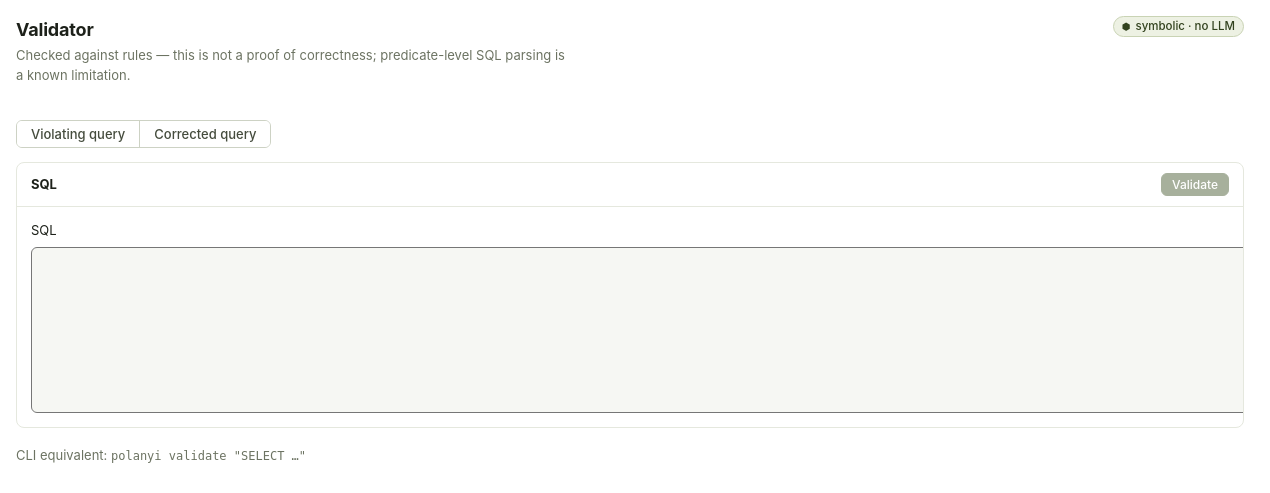
it: retry re-issues the request and can recover to a normal verdict
In the text box labelled "SQL": x=645, y=330 [31,246,1259,412], type "SELECT 1"
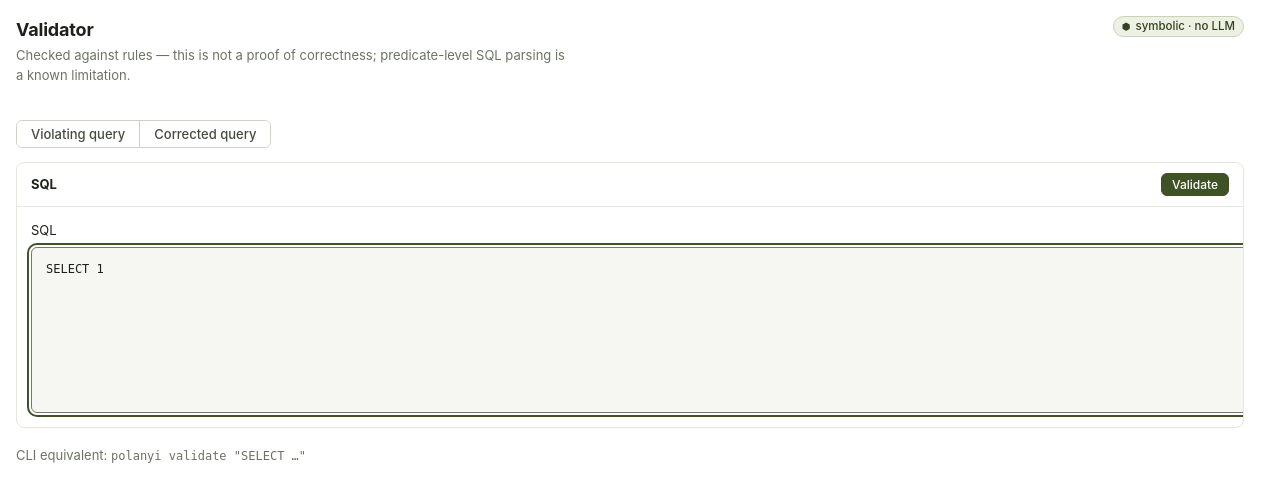
Click the button "Validate": x=1195, y=184 [1161,173,1229,196]
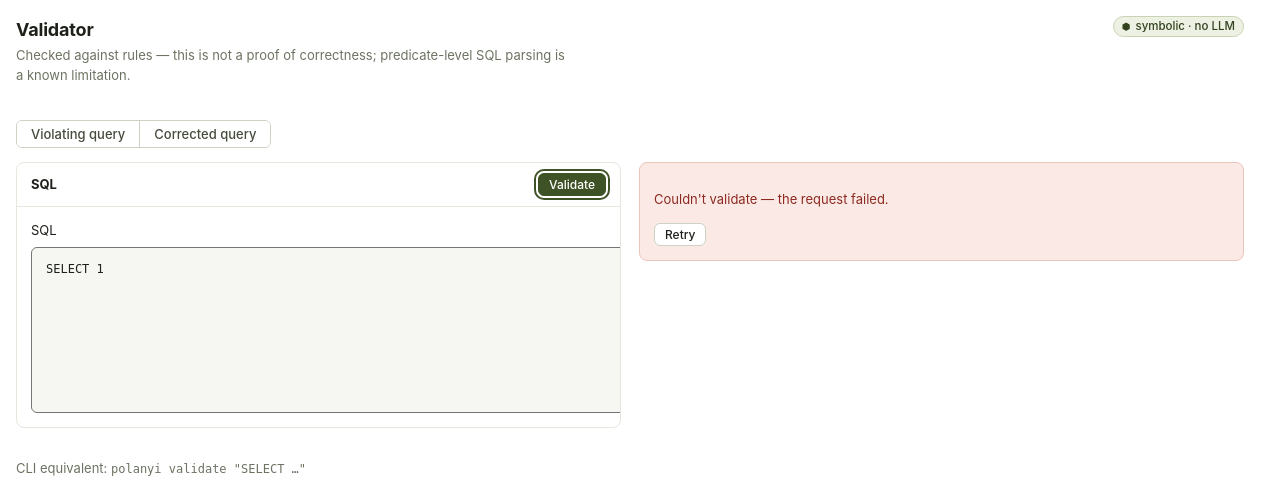
Result: the button "Retry" is shown
Click the button "Retry": x=680, y=234 [654,222,706,246]
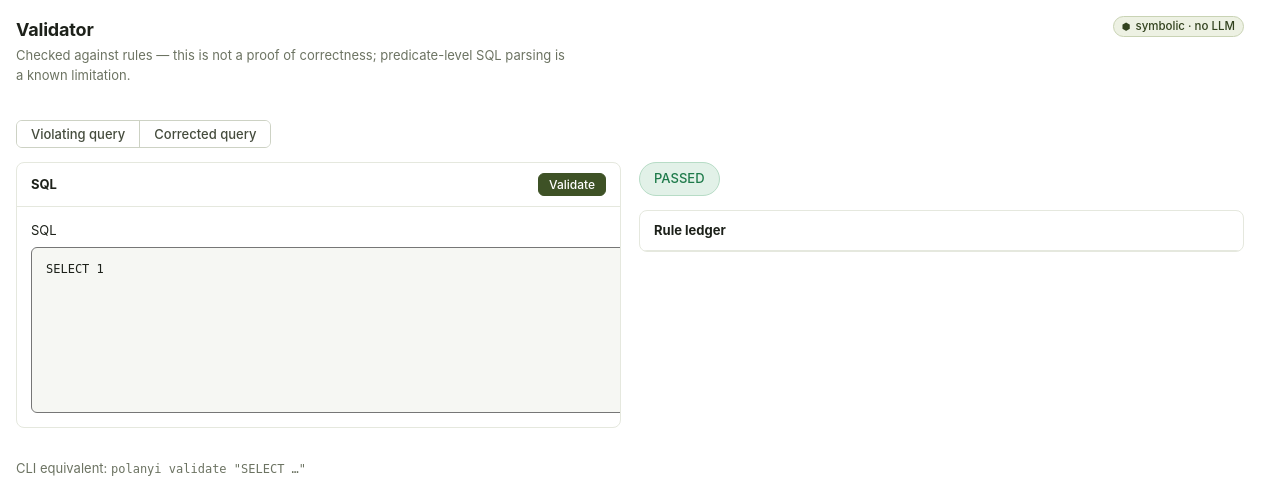
Result: the message reads "PASSED" at [654,170,704,186]
